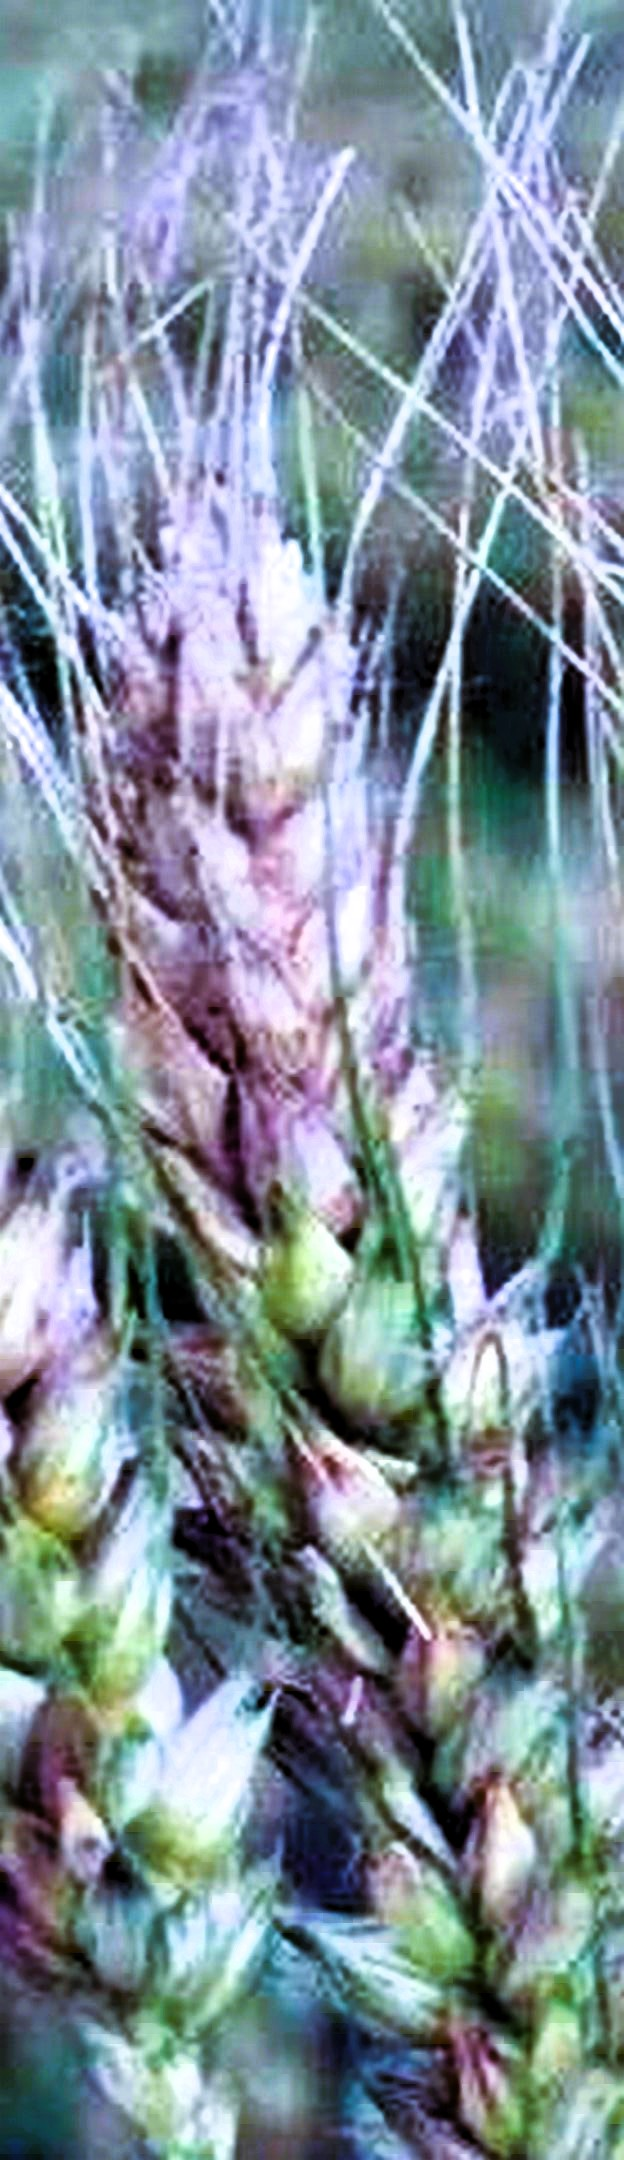Wheat scab: (61, 495, 565, 1624)
